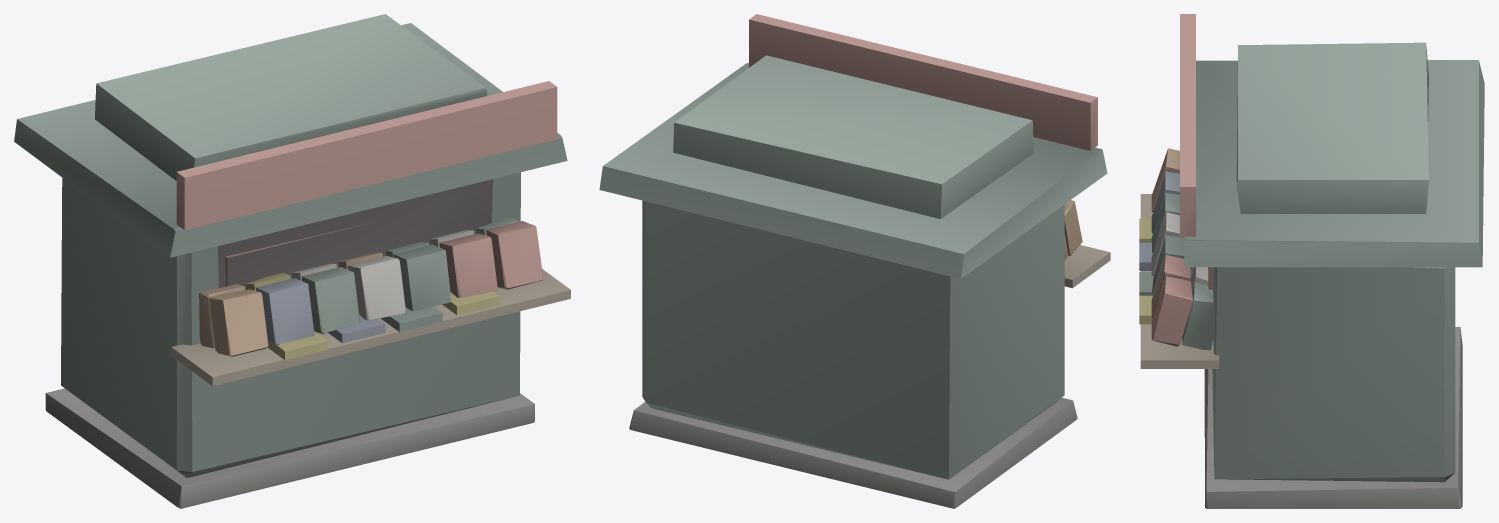
Rendered from newsstand.lod1.glb.
3 views of the same model, side by side, from view 1: azimuth 30°, elevation 25°; view 2: azimuth 150°, elevation 25°; view 3: azimuth 270°, elevation 25° (orthographic). The views are drawn at different scales.
Size of the model in its own units: 2.77 by 2.29 by 2.2.
